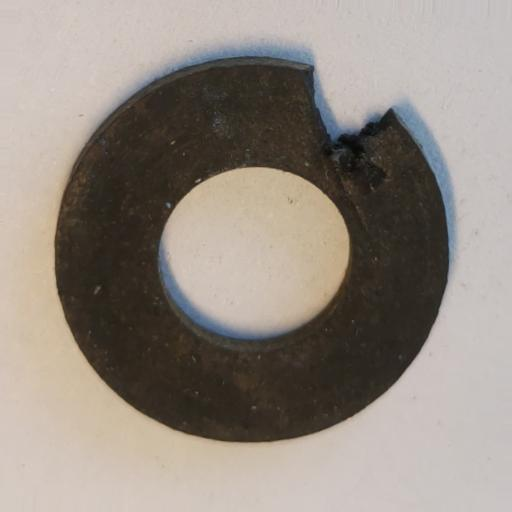defect: (302, 67, 398, 196)
